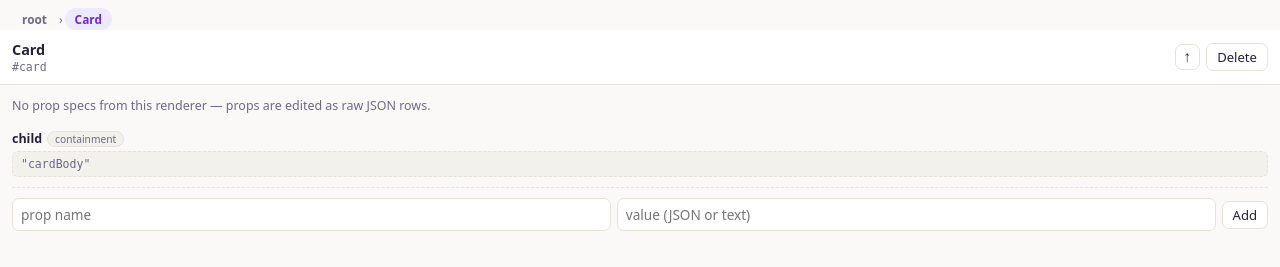
Test: Inspector no-specs fallback › guards structural keys in the fallback (containment rows + add-prop errors)
Type "children" into the field with test id "prop-add-name".
click(311, 214); type("children")  # box [12,198,611,231]
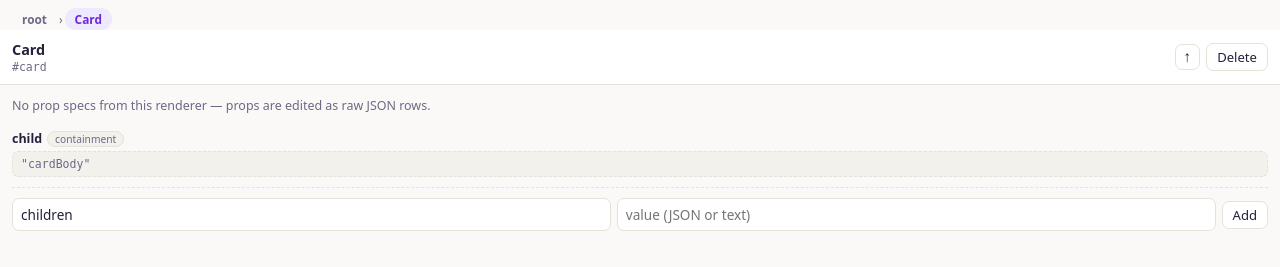
Type "[]" into the field with test id "prop-add-value".
click(916, 214); type("[]")  # box [617,198,1216,231]
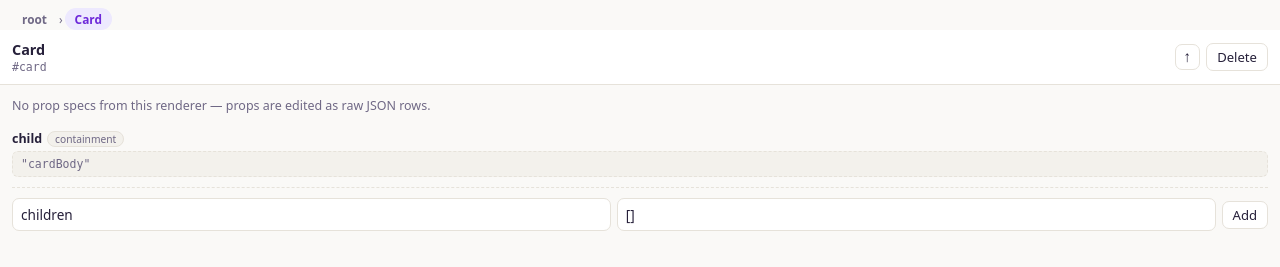
Click the button with test id "prop-add".
click(1245, 214)  # box [1222,200,1268,228]
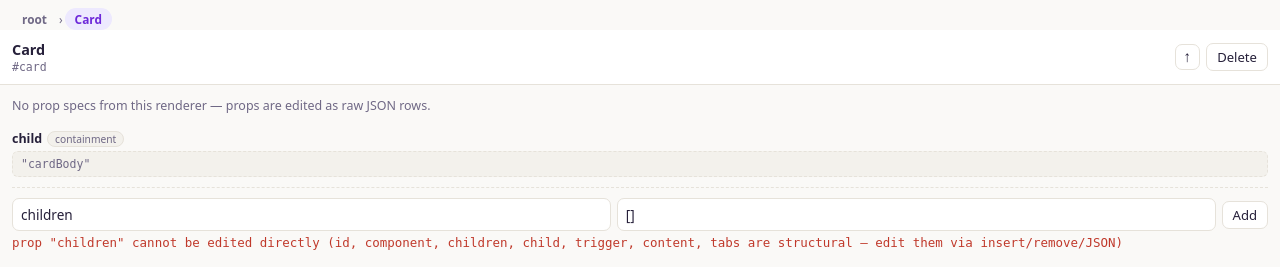
Expected: the message with test id "prop-add-error" shows "cannot be edited directly", [12,235,1123,250]
